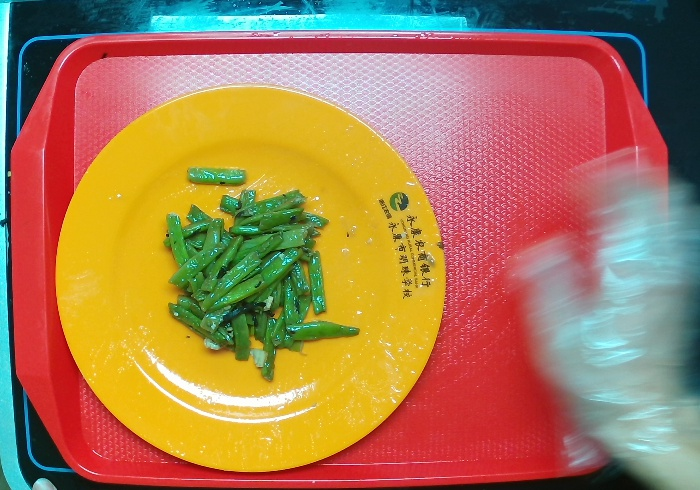YKMZ-Ju_Se_Mian_Pan: (44, 71, 462, 482)
